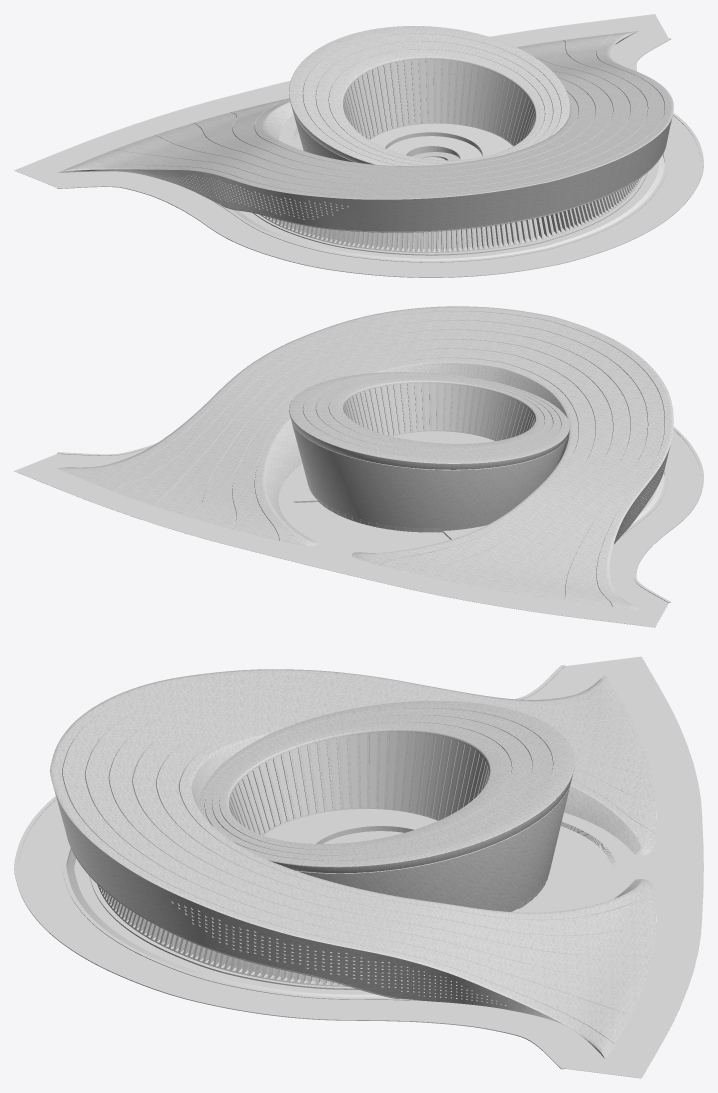
File: KB3D_UTP_BldgMD_D.fbx
The picture shows the model from 3 angles, top to bottom: view 1: azimuth 30°, elevation 25°; view 2: azimuth 150°, elevation 25°; view 3: azimuth 270°, elevation 25°; orthographic projection. The views are drawn at different scales.
Parts seen in each view (by area): view 1: KB3D_UTP_BldgMD_D_Main, KB3D_UTP_BldgMD_D_BuildingA, KB3D_UTP_BldgMD_D_Base; view 2: KB3D_UTP_BldgMD_D_Main, KB3D_UTP_BldgMD_D_BuildingA, KB3D_UTP_BldgMD_D_Base; view 3: KB3D_UTP_BldgMD_D_Main, KB3D_UTP_BldgMD_D_BuildingA, KB3D_UTP_BldgMD_D_Base.
Part boxes in pixels (x1=…): KB3D_UTP_BldgMD_D_Main: x1=57, y1=31, x2=673, y2=252; KB3D_UTP_BldgMD_D_BuildingA: x1=289, y1=26, x2=569, y2=165; KB3D_UTP_BldgMD_D_Base: x1=14, y1=14, x2=703, y2=277; KB3D_UTP_BldgMD_D_Main: x1=57, y1=306, x2=673, y2=610; KB3D_UTP_BldgMD_D_BuildingA: x1=289, y1=372, x2=569, y2=532; KB3D_UTP_BldgMD_D_Base: x1=14, y1=427, x2=703, y2=627; KB3D_UTP_BldgMD_D_Main: x1=50, y1=669, x2=656, y2=1058; KB3D_UTP_BldgMD_D_BuildingA: x1=198, y1=701, x2=574, y2=911; KB3D_UTP_BldgMD_D_Base: x1=14, y1=656, x2=703, y2=1078.
Bounding box in the file's own units: 65228 × 7859 × 45094.
